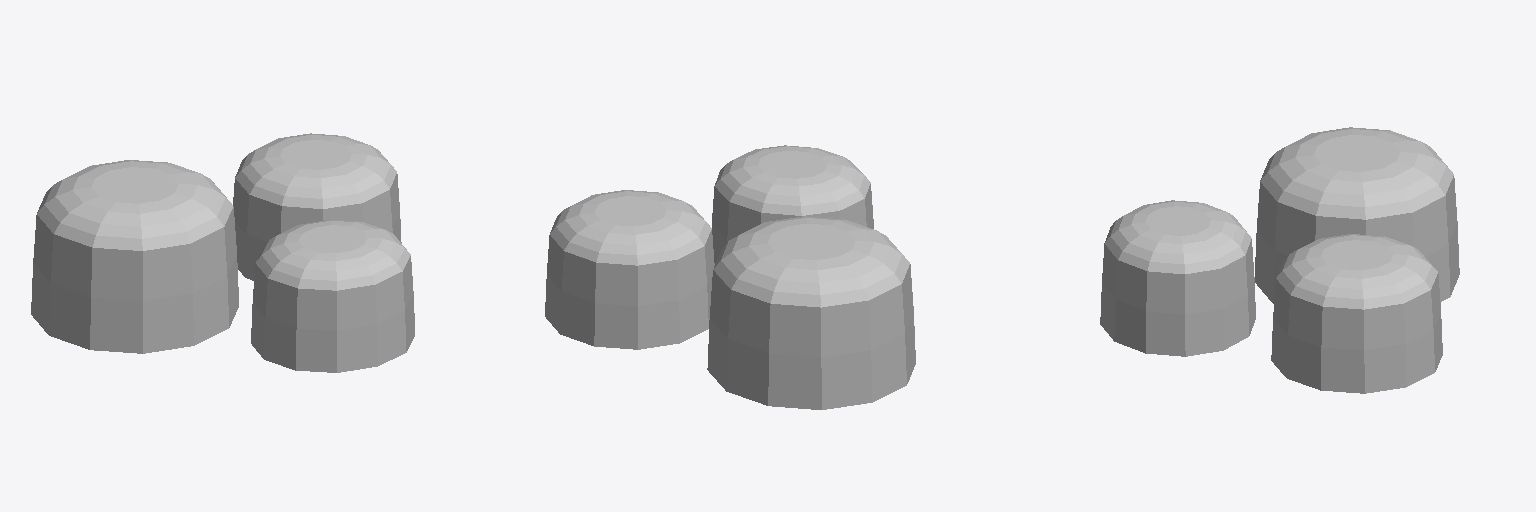
The model's file is Gum Drops.obj.
3 renders of one model, left to right at view 1: azimuth 30°, elevation 25°; view 2: azimuth 150°, elevation 25°; view 3: azimuth 270°, elevation 25°, orthographic.
Visible parts, largest first — view 1: GumDrops; view 2: GumDrops; view 3: GumDrops.
Part boxes in pixels (left/top/right/bottom): GumDrops: left=31, top=133, right=414, bottom=372; GumDrops: left=545, top=145, right=915, bottom=409; GumDrops: left=1100, top=127, right=1459, bottom=393.
Size of the model in its own units: 2.86 by 0.9873 by 2.58.